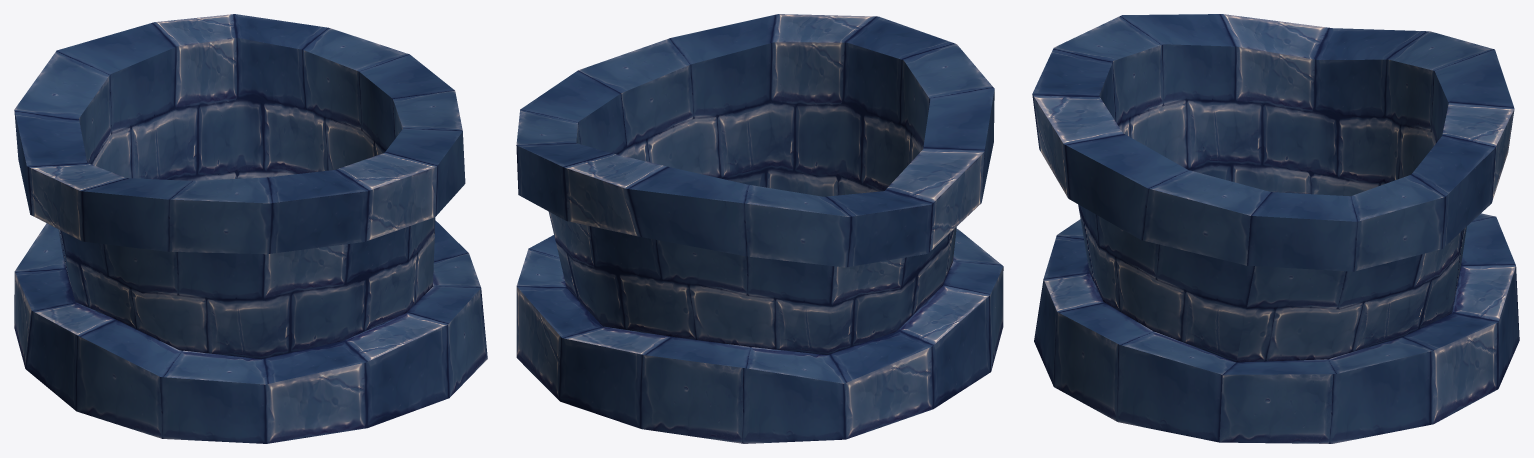
The model's file is SM_PROP_well.fbx.
3 renders of one model, left to right at view 1: azimuth 30°, elevation 25°; view 2: azimuth 150°, elevation 25°; view 3: azimuth 270°, elevation 25°, orthographic. The views are drawn at different scales.
Parts seen in each view (by area): view 1: SM_PROP_well; view 2: SM_PROP_well; view 3: SM_PROP_well.
Part boxes in pixels (left/top/right/bottom): SM_PROP_well: left=14, top=14, right=487, bottom=443; SM_PROP_well: left=516, top=14, right=1003, bottom=443; SM_PROP_well: left=1032, top=14, right=1519, bottom=443.
Size of the model in its own units: 207 by 118 by 208.
